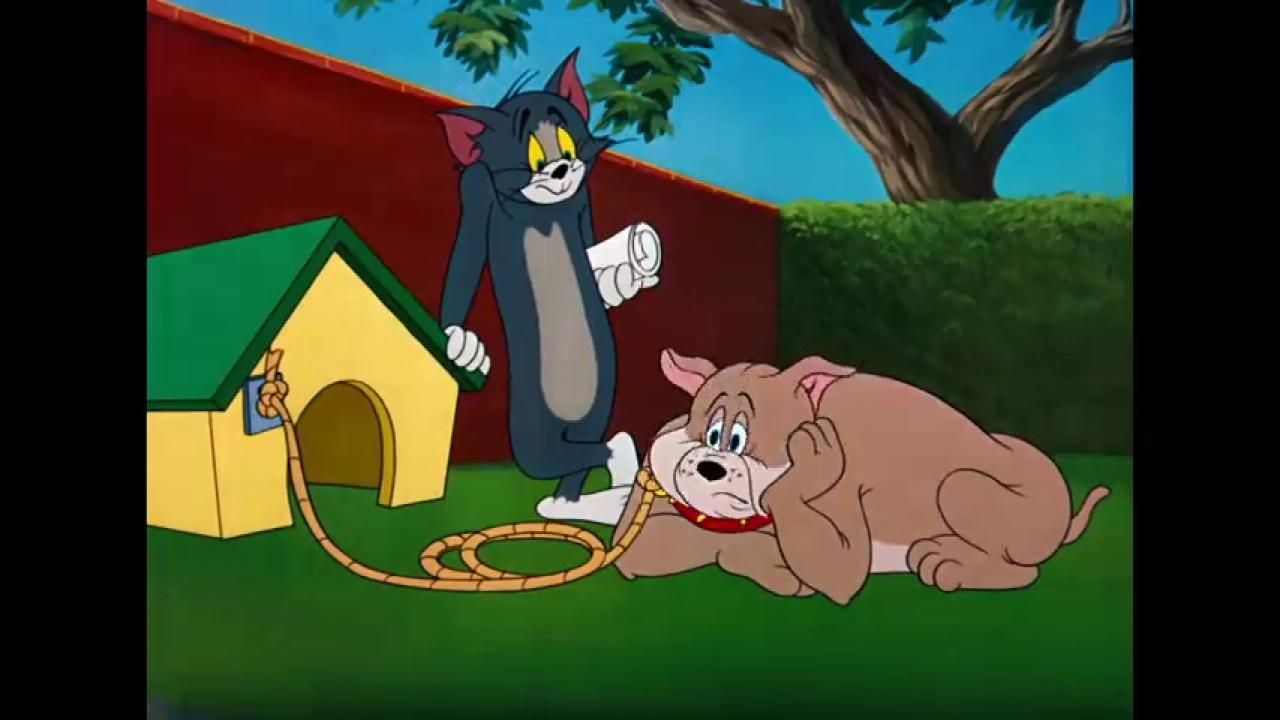Tom: (428, 44, 664, 527)
